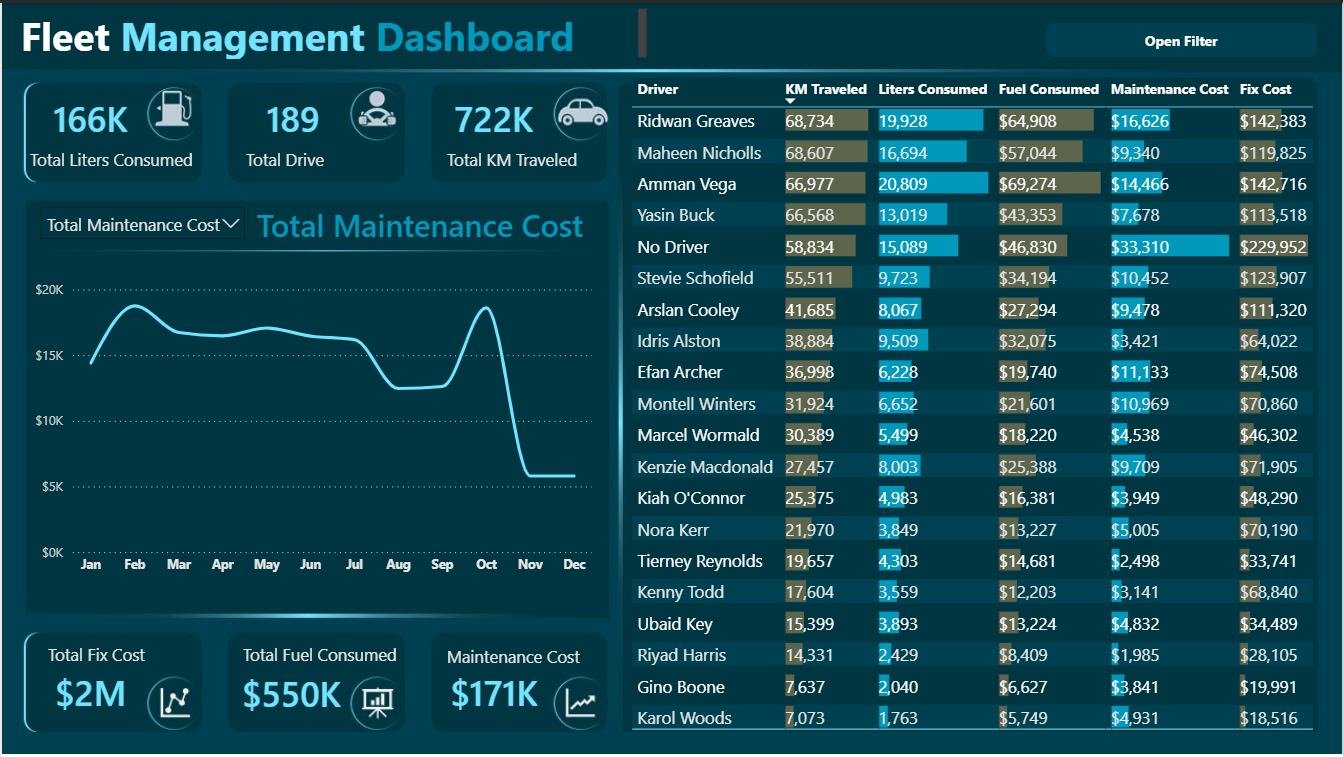

The page's visual inventory and layout, read from the dashboard file:
{"tool":"powerbi","page":{"name":"Driver Dashboard","canvas":[1280,720],"ordinal":0},"visuals":[{"type":"tableEx","fields":{"Values":["Dim_Drivers.Driver","Measure Table.Total KM Traveled","Measure Table.Total Liters Consumed","Measure Table.Total Fuel Consumed","Measure Table.Total Maintenance Cost","Measure Table.Total Fix Cost"]},"box":[595.3,66,673.4,634.4],"z":0},{"type":"lineChart","fields":{"Y":["Measure Table.Total Maintenance Cost"],"Category":["DateTable.Months.Year","DateTable.Months.Month","DateTable.Months.Quarter"]},"box":[26.3,259.6,542.1,294.7],"z":1000},{"type":"slicer","fields":{"Values":["Switch Driver Measures.Switch Driver Measures"]},"box":[27.7,185.4,214.7,47.2],"z":2000},{"type":"cardVisual","fields":{"Data":["Measure Table.Total Liters Consumed"]},"box":[0,57.7,169.2,102.5],"z":3000},{"type":"cardVisual","fields":{"Data":["Measure Table.Total Drive"]},"box":[192.7,58.6,169.2,100.8],"z":4000},{"type":"cardVisual","fields":{"Data":["Measure Table.Total KM Traveled"]},"box":[385.5,59.4,169.2,99.2],"z":5000},{"type":"cardVisual","fields":{"Data":["Measure Table.Total Fix Cost"]},"box":[0,606.7,169.2,99.2],"z":6000},{"type":"cardVisual","fields":{"Data":["Measure Table.Total Fuel Consumed"]},"box":[192.3,607.7,169.2,100],"z":7000},{"type":"cardVisual","fields":{"Data":["Measure Table.Total Maintenance Cost"]},"box":[385.5,606.7,169.2,99.2],"z":8000},{"type":"cardVisual","fields":{"Rows":["Switch Driver Measures.Switch Driver Measures"]},"box":[226.1,172.4,357.8,118.7],"z":9000},{"type":"textbox","box":[13.4,0,607.5,58.2],"z":10000},{"type":"shape","box":[996.7,18.3,258.3,33.3],"z":11000},{"type":"textbox","box":[21.1,133.3,177.2,50.9],"z":13000},{"type":"textbox","box":[228.1,133.3,96.5,50.9],"z":14000},{"type":"textbox","box":[419.3,133.3,164.9,50.9],"z":15000},{"type":"textbox","box":[38.6,605.3,193,50.9],"z":16000},{"type":"textbox","box":[224.6,605.3,184.2,50.9],"z":17000},{"type":"textbox","box":[419.3,607,175.4,50.9],"z":18000}]}

Visuals, with their boxes in screenshot pixels (x1, y1, x2, y2), scaled from the page's 1280x720 canvas onto the 1343x757 screenshot:
tableEx - Dim_Drivers.Driver x Measure Table.Total KM Traveled: x1=625, y1=69, x2=1331, y2=736
lineChart - Measure Table.Total Maintenance Cost x DateTable.Months.Year: x1=28, y1=273, x2=596, y2=583
slicer - Switch Driver Measures.Switch Driver Measures: x1=29, y1=195, x2=254, y2=245
cardVisual - Measure Table.Total Liters Consumed: x1=0, y1=61, x2=178, y2=168
cardVisual - Measure Table.Total Drive: x1=202, y1=62, x2=380, y2=168
cardVisual - Measure Table.Total KM Traveled: x1=404, y1=62, x2=582, y2=167
cardVisual - Measure Table.Total Fix Cost: x1=0, y1=638, x2=178, y2=742
cardVisual - Measure Table.Total Fuel Consumed: x1=202, y1=639, x2=379, y2=744
cardVisual - Measure Table.Total Maintenance Cost: x1=404, y1=638, x2=582, y2=742
cardVisual - Switch Driver Measures.Switch Driver Measures: x1=237, y1=181, x2=613, y2=306
textbox: x1=14, y1=0, x2=651, y2=61
shape: x1=1046, y1=19, x2=1317, y2=54
textbox: x1=22, y1=140, x2=208, y2=194
textbox: x1=239, y1=140, x2=341, y2=194
textbox: x1=440, y1=140, x2=613, y2=194
textbox: x1=40, y1=636, x2=243, y2=690
textbox: x1=236, y1=636, x2=429, y2=690
textbox: x1=440, y1=638, x2=624, y2=692
